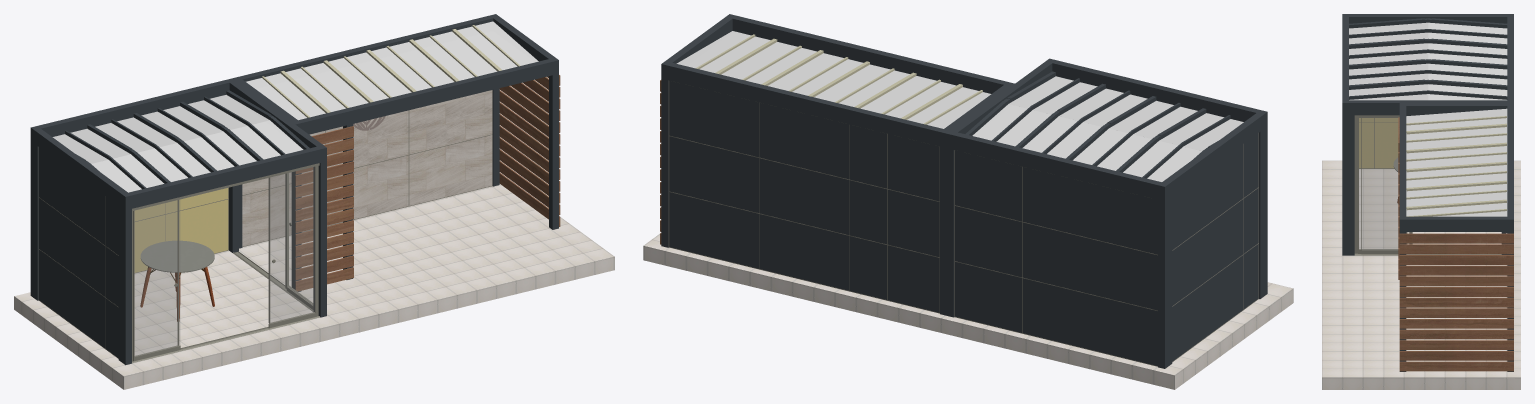
File: agp5-g_matdarkgrey.fbx
3 renders of one model, left to right at view 1: azimuth 30°, elevation 25°; view 2: azimuth 150°, elevation 25°; view 3: azimuth 270°, elevation 25°, orthographic. The views are drawn at different scales.
Visible parts, largest first — view 1: agp5-g_mat-d-gray_ファニチャーなし.001; view 2: agp5-g_mat-d-gray_ファニチャーなし.001; view 3: agp5-g_mat-d-gray_ファニチャーなし.001.
Boxes of the visible parts, bbox=[...] form: agp5-g_mat-d-gray_ファニチャーなし.001: bbox=[14, 14, 614, 389]; agp5-g_mat-d-gray_ファニチャーなし.001: bbox=[643, 14, 1293, 389]; agp5-g_mat-d-gray_ファニチャーなし.001: bbox=[1322, 14, 1520, 389].
Size of the model in its own units: 763 by 270 by 295.
25 materials, 17 textured.
